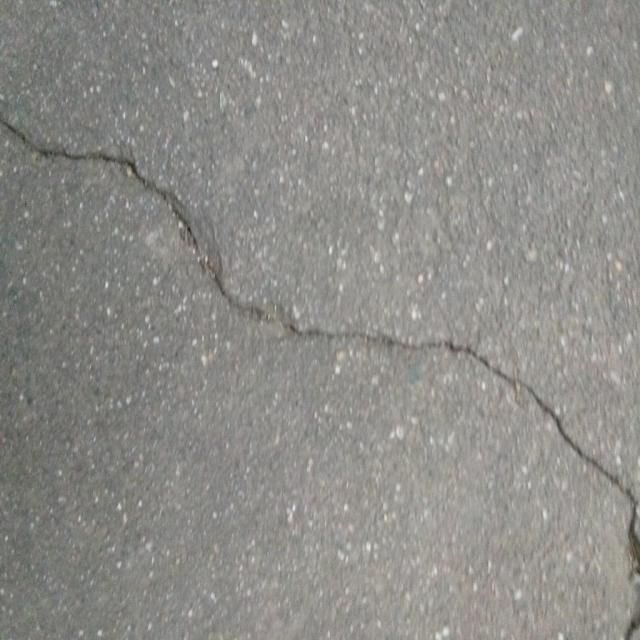cracks: (0, 95, 640, 640)
